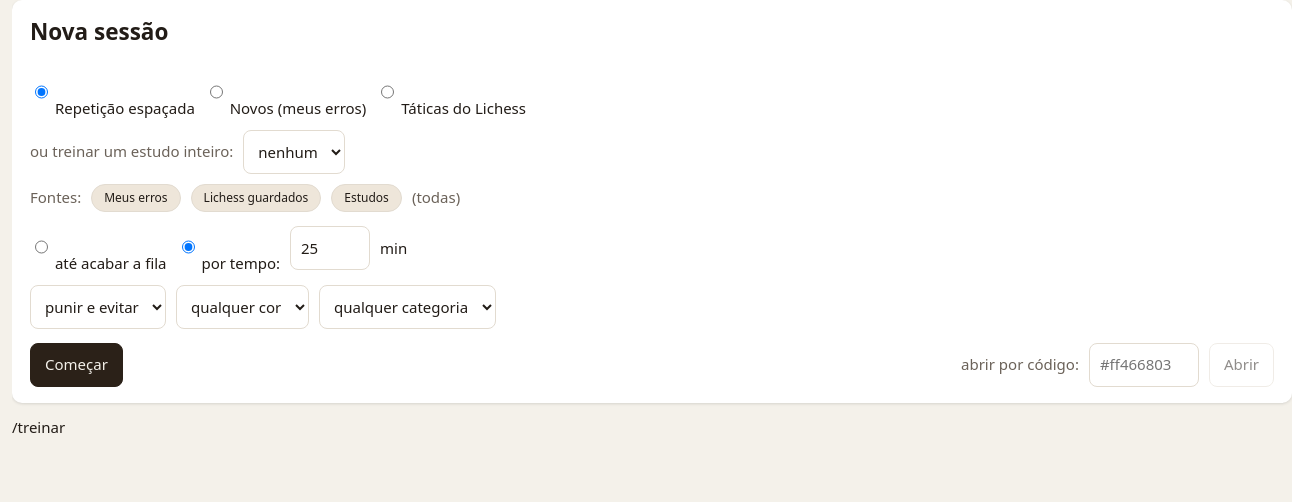
Test case: a marca de ignorar o limite só aparece nos novos
Expected: the field labelled "ignorar o limite diário hoje" is not shown
Click the radio button labelled "Novos (meus erros)": (216, 92) [210,70,223,114]
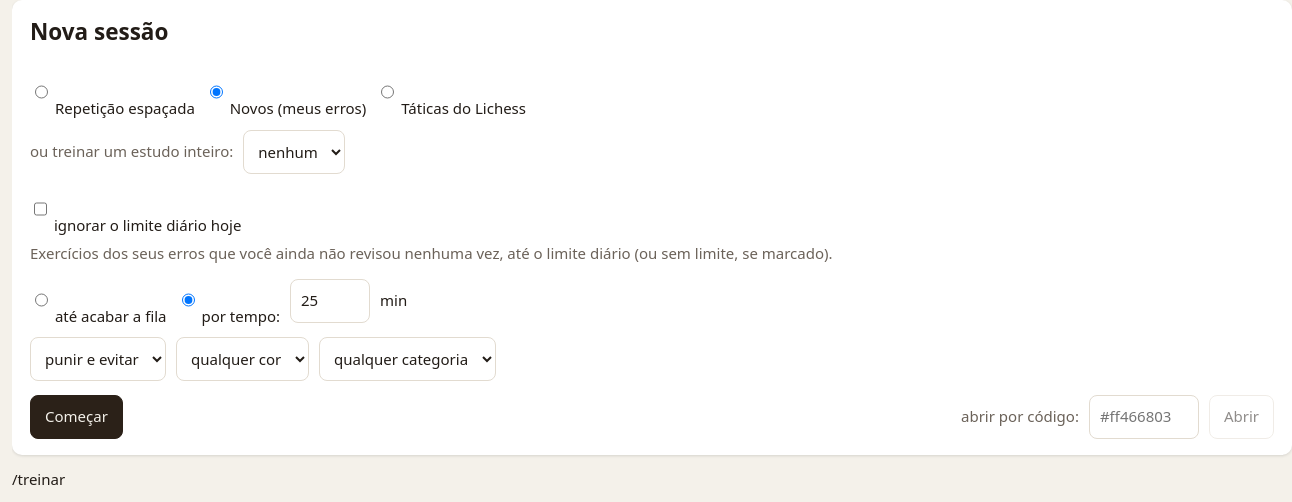
Click the checkbox labelled "ignorar o limite diário hoje": (40, 209) [34,187,47,231]
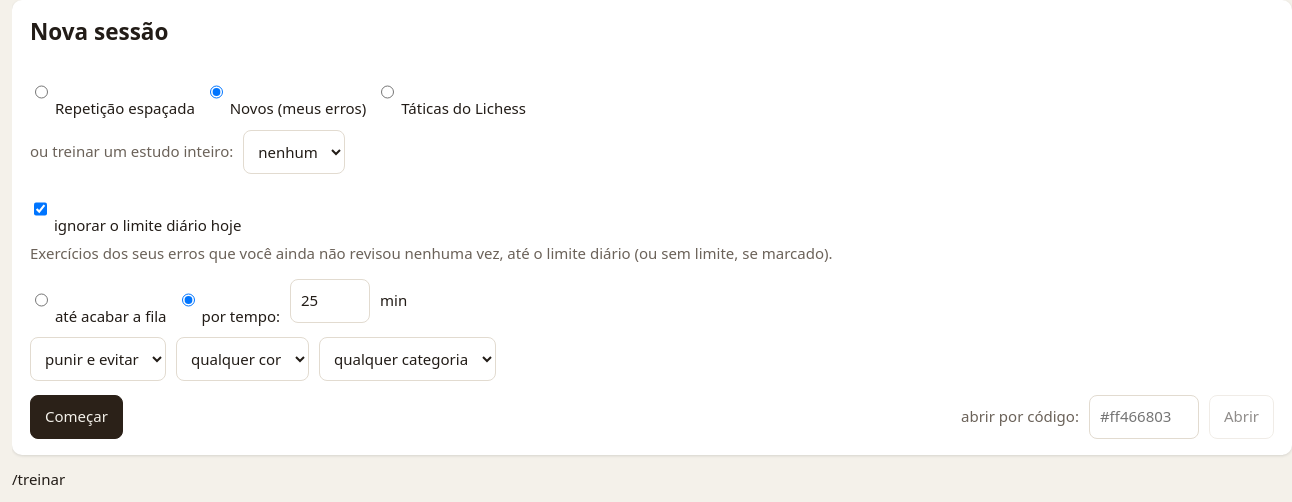
Now the checkbox labelled "ignorar o limite diário hoje" is checked, box [34,187,47,231]
Click the radio button labelled "Repetição espaçada": (42, 92) [35,70,48,114]
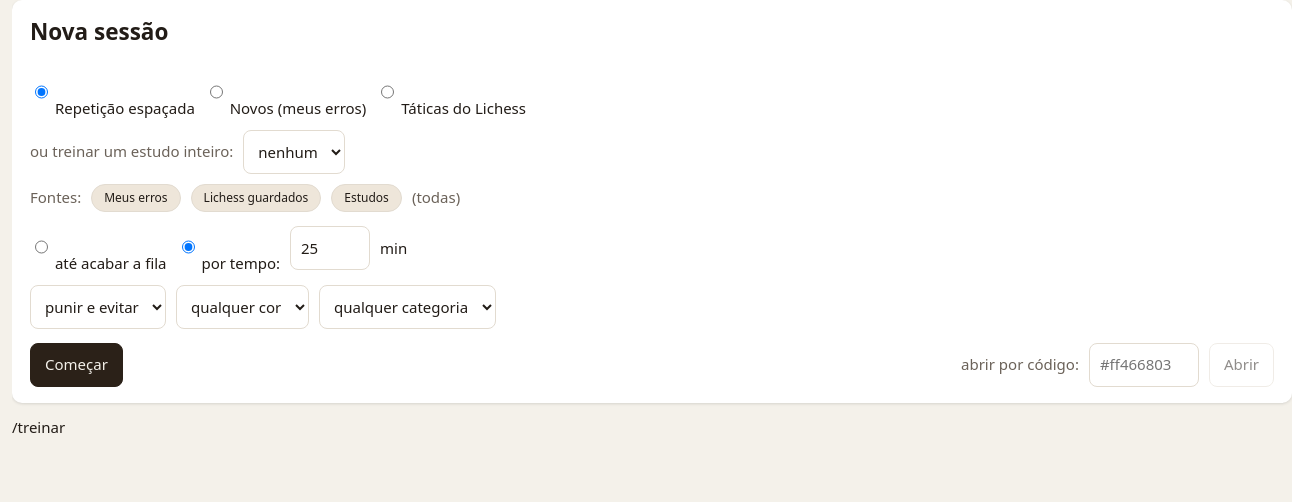
Now the label labelled "ignorar o limite diário hoje" is gone
Note: trocar de modo zera a marca: voltar aos novos começa sem ela
Click the radio button labelled "Novos (meus erros)": (216, 92) [210,70,223,114]
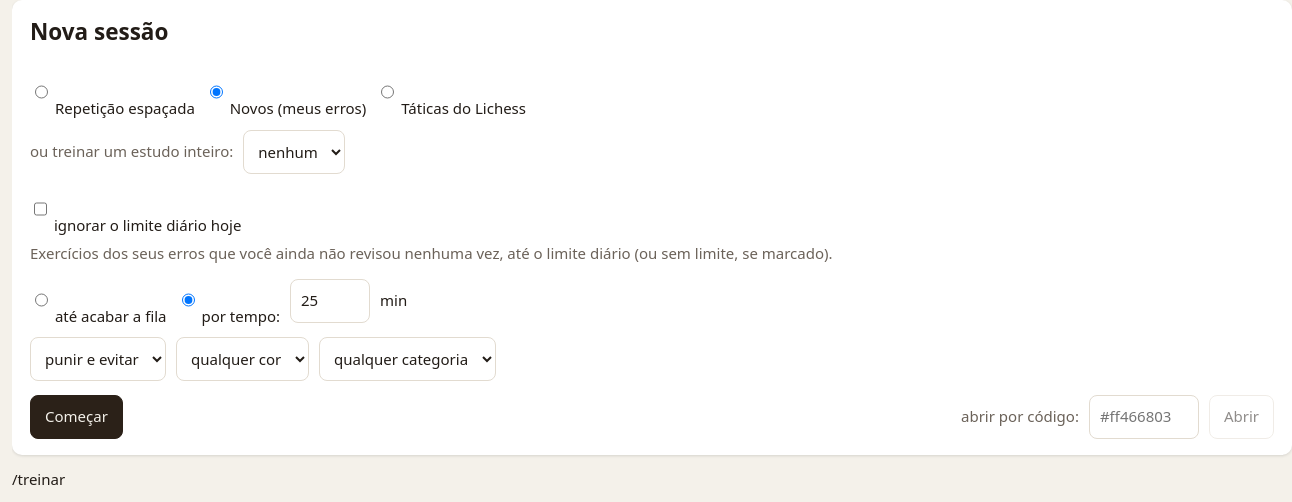
Now the checkbox labelled "ignorar o limite diário hoje" is not checked, box [34,187,47,231]
